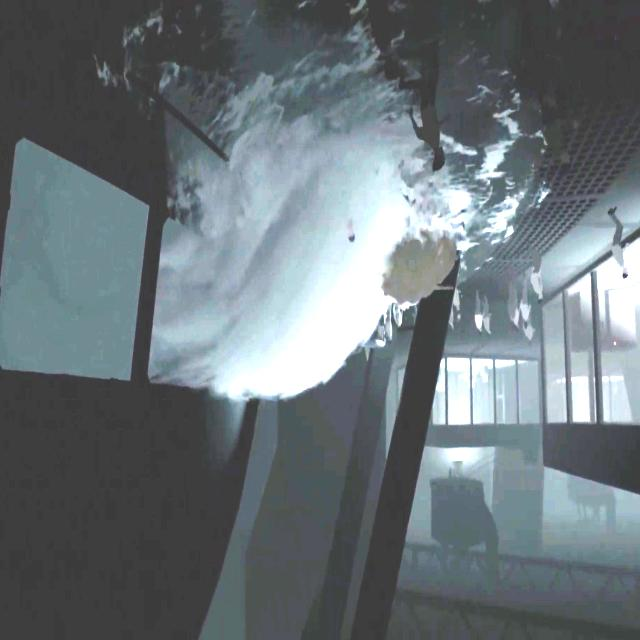blob: (380, 238, 460, 308)
human: (399, 36, 449, 170), (366, 0, 409, 82), (536, 90, 578, 173), (610, 208, 629, 278), (528, 244, 544, 303), (519, 271, 532, 330), (474, 289, 484, 333), (511, 300, 520, 334), (376, 315, 385, 345), (523, 321, 534, 344), (485, 293, 491, 335), (385, 307, 392, 343), (394, 306, 404, 330)
